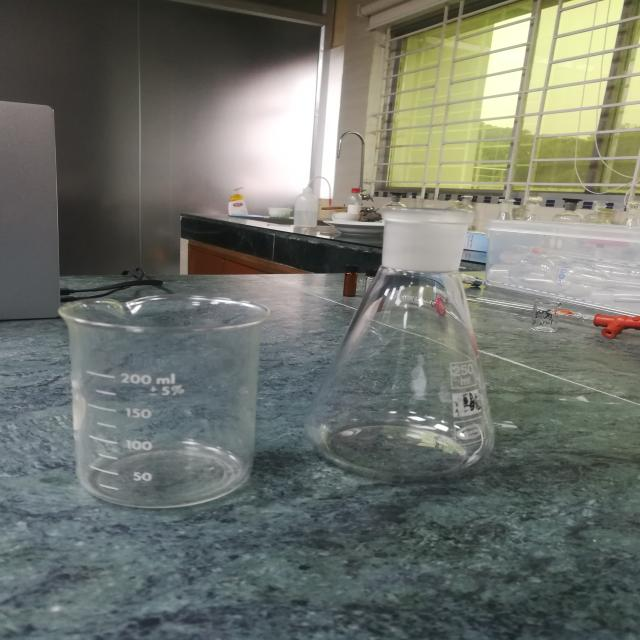Beaker: (41, 270, 287, 520)
Conical_Flask: (306, 157, 531, 497)
